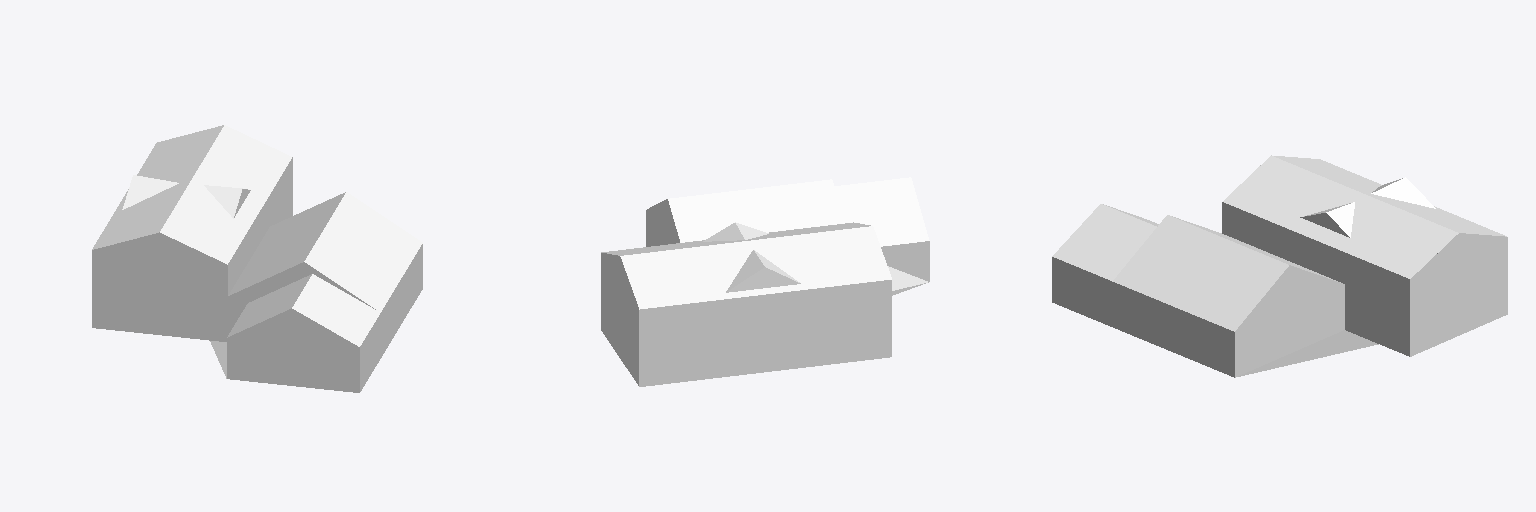
File: house_Shape 298.obj
3 renders of one model, left to right at view 1: azimuth 30°, elevation 25°; view 2: azimuth 150°, elevation 25°; view 3: azimuth 270°, elevation 25°, orthographic.
Visible parts, largest first — view 1: CityEngineMaterial_38, CityEngineMaterial_129, CityEngineMaterial_128; view 2: CityEngineMaterial_38, CityEngineMaterial_128, CityEngineMaterial_129; view 3: CityEngineMaterial_38, CityEngineMaterial_129, CityEngineMaterial_128, CityEngineMaterial_202.
Boxes of the visible parts, x1,y1,x2,y2 form: CityEngineMaterial_38: [92, 125, 422, 346]; CityEngineMaterial_129: [92, 157, 422, 391]; CityEngineMaterial_128: [227, 308, 359, 392]; CityEngineMaterial_38: [601, 177, 929, 309]; CityEngineMaterial_128: [601, 253, 891, 386]; CityEngineMaterial_129: [630, 199, 800, 292]; CityEngineMaterial_38: [1052, 155, 1506, 331]; CityEngineMaterial_129: [1052, 202, 1409, 377]; CityEngineMaterial_128: [1410, 235, 1507, 356]; CityEngineMaterial_202: [1238, 330, 1378, 376].
Size of the model in its own units: 14.87 by 5.06 by 20.33.